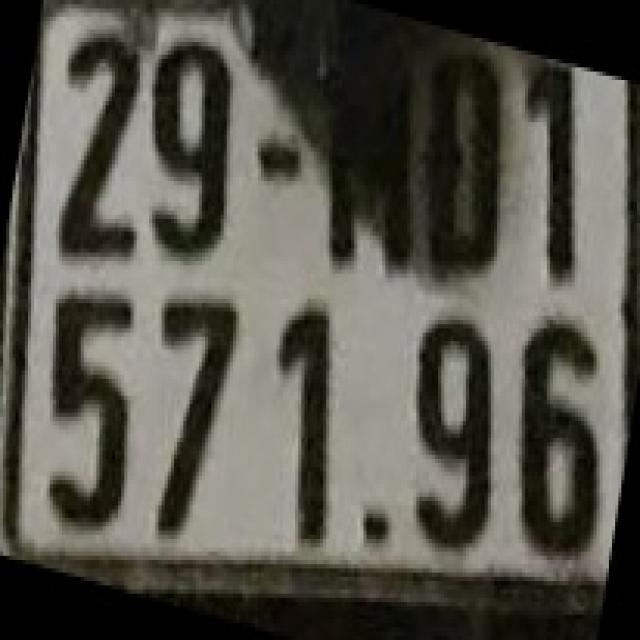1: (270, 294, 348, 552), (512, 58, 594, 290)
2: (56, 25, 140, 261)
5: (44, 286, 134, 530)
6: (516, 316, 602, 560)
7: (149, 291, 242, 544)
9: (407, 312, 497, 552), (146, 29, 236, 266)
D: (424, 36, 505, 306)
